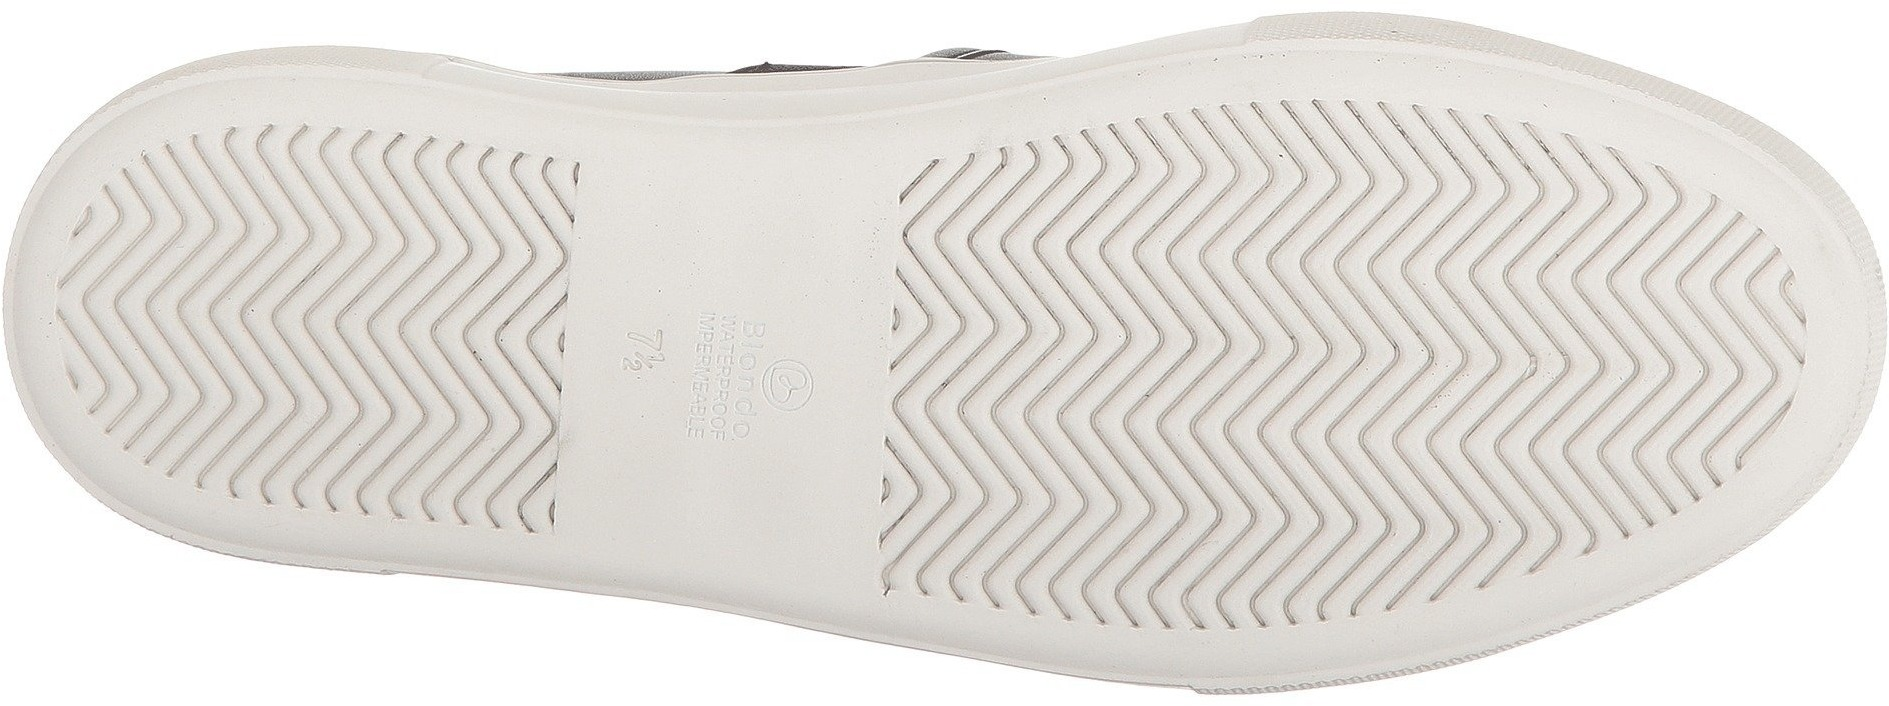chevron: (1201, 147, 1566, 526), (901, 214, 1187, 499), (80, 190, 345, 451), (348, 194, 572, 449), (1579, 226, 1793, 463)
other: (608, 127, 792, 304), (720, 473, 888, 625)
text: (611, 302, 807, 460)
